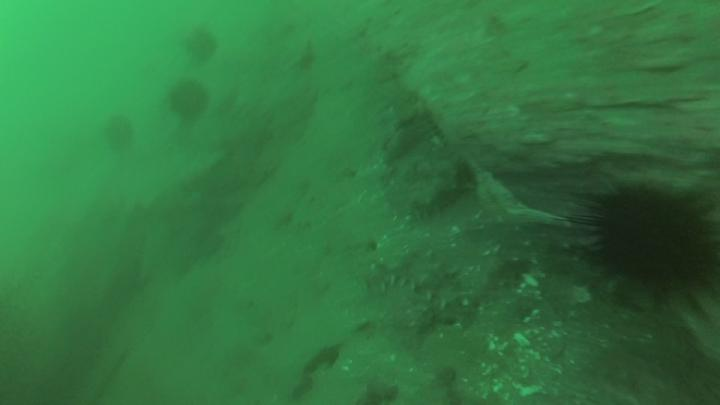echinus: (587, 178, 720, 296), (166, 76, 213, 124), (176, 27, 226, 66)
holothurian: (368, 243, 466, 321)
